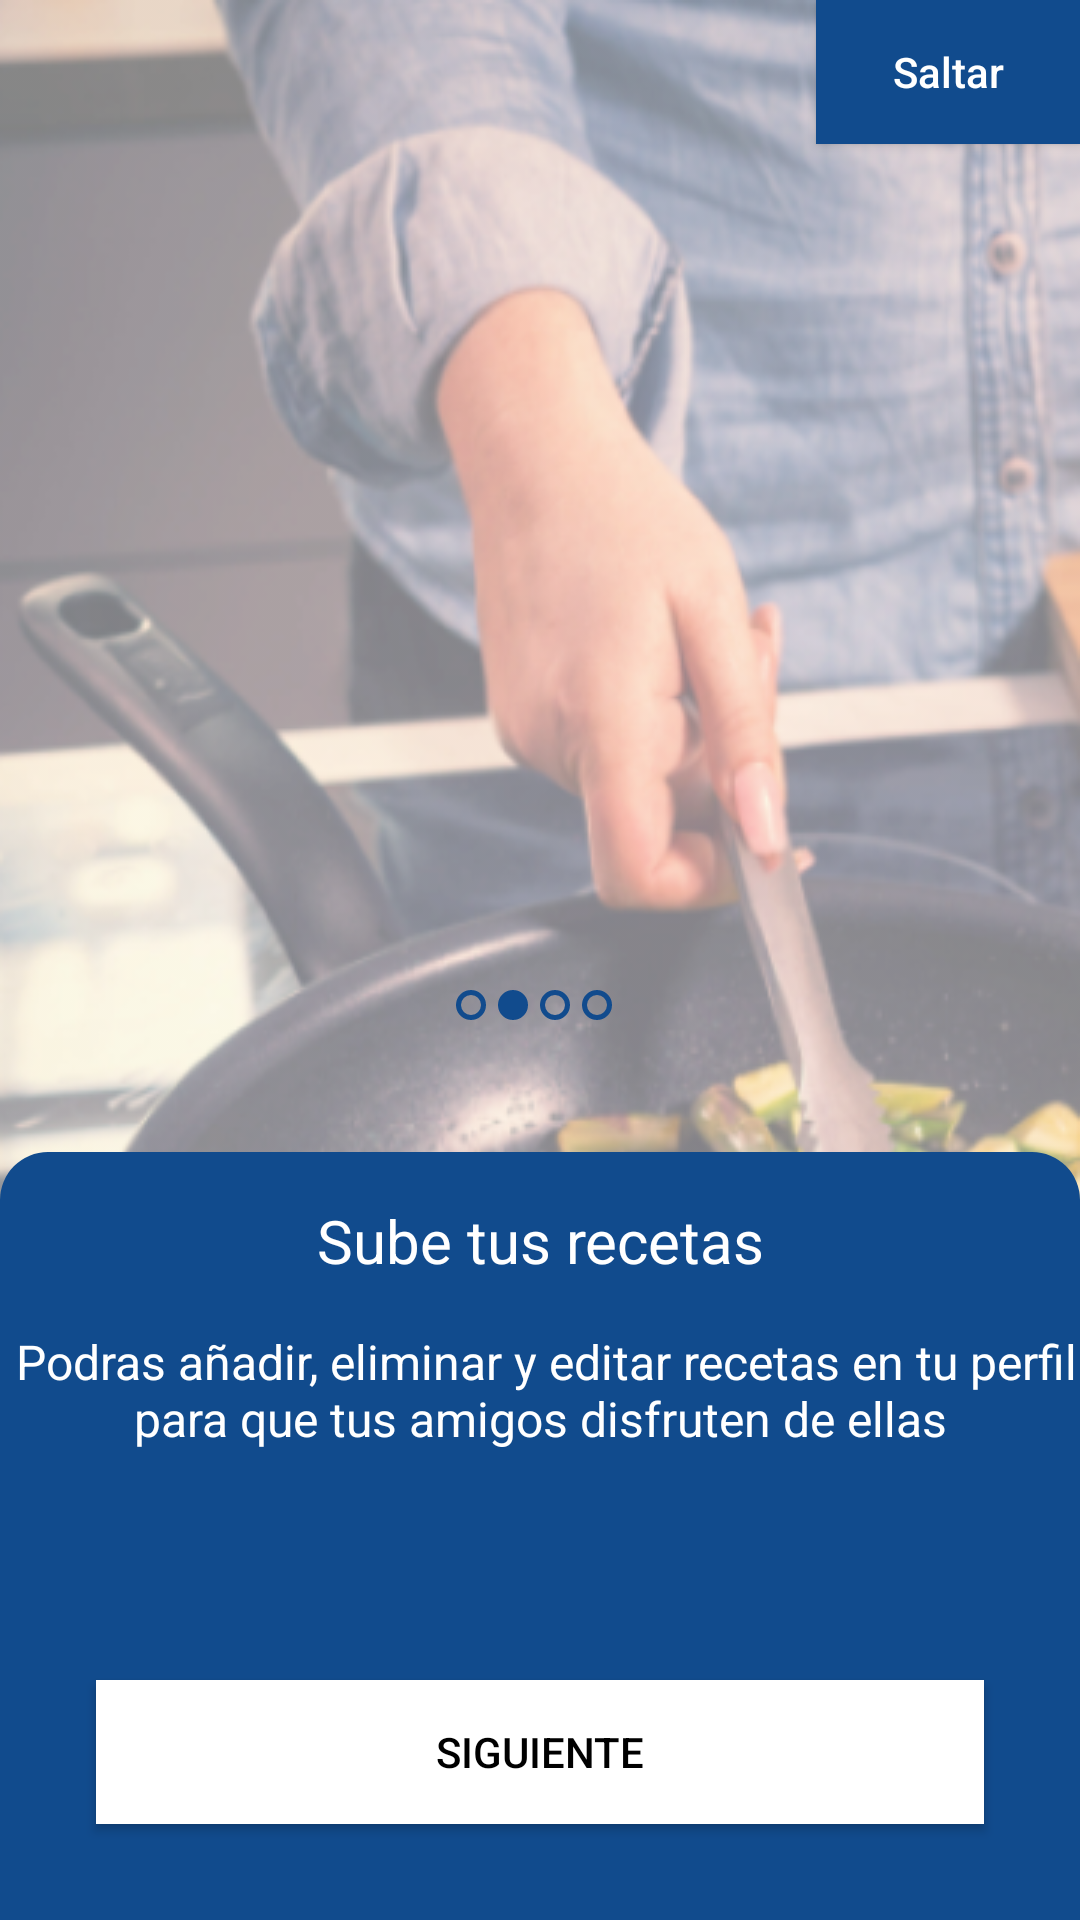

Screen size 1080*1920. Icon name, then its box in pixels as [x1, y1, x2, y2]:
dot: [456, 990, 486, 1020], [498, 990, 528, 1020], [540, 990, 570, 1020], [582, 990, 612, 1020]
